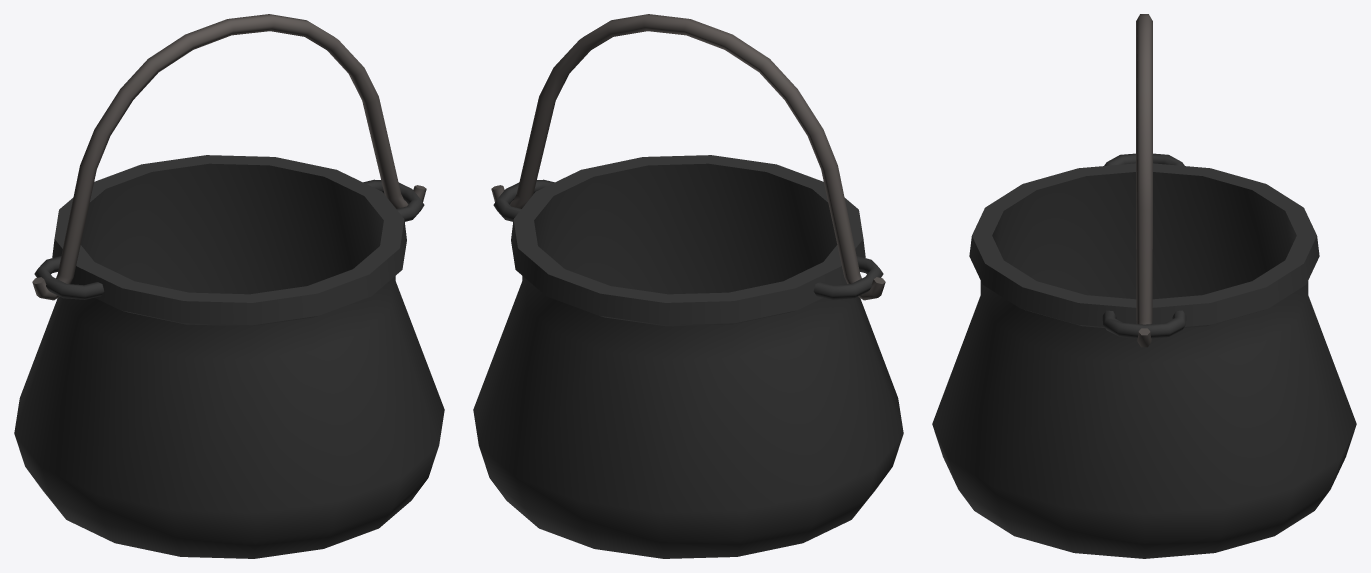
The model's file is CauldronLarge.fbx.
3 views of the same model, side by side, from view 1: azimuth 30°, elevation 25°; view 2: azimuth 150°, elevation 25°; view 3: azimuth 270°, elevation 25° (orthographic). The views are drawn at different scales.
Visible parts, largest first — view 1: CauldronLarge, CauldronLarge_Handle; view 2: CauldronLarge, CauldronLarge_Handle; view 3: CauldronLarge, CauldronLarge_Handle.
Boxes of the visible parts, left/top/right/bottom form: CauldronLarge: left=14, top=155, right=444, bottom=558; CauldronLarge_Handle: left=32, top=14, right=426, bottom=300; CauldronLarge: left=473, top=155, right=903, bottom=558; CauldronLarge_Handle: left=491, top=14, right=885, bottom=300; CauldronLarge: left=932, top=153, right=1356, bottom=558; CauldronLarge_Handle: left=1136, top=14, right=1152, bottom=347.
Bounding box in the file's own units: 58.56 × 67.11 × 56.26.
